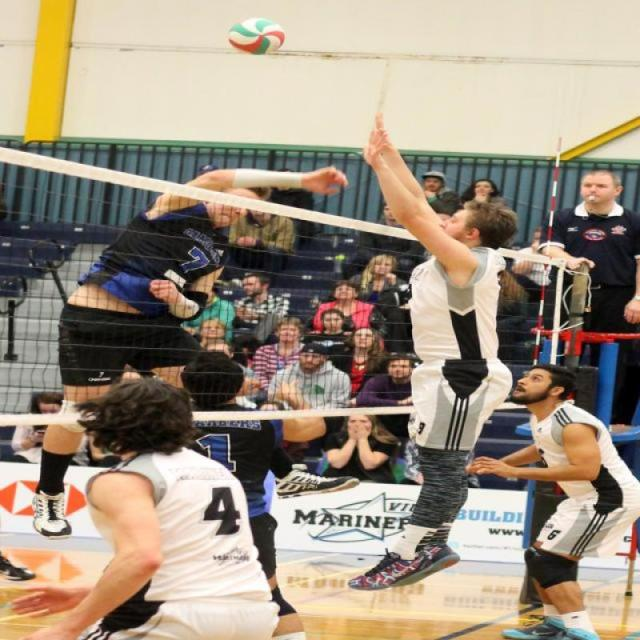volleyball: (220, 14, 280, 54)
